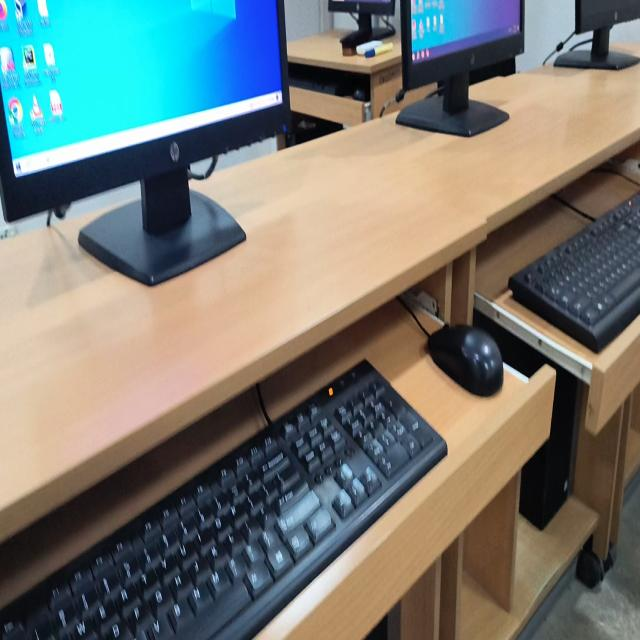Cpu: (474, 309, 582, 529)
Keyboard: (0, 360, 447, 639), (509, 193, 640, 353)
Monitor: (0, 0, 290, 285), (396, 0, 524, 136), (554, 0, 640, 70)
Mouse: (428, 324, 503, 397)
